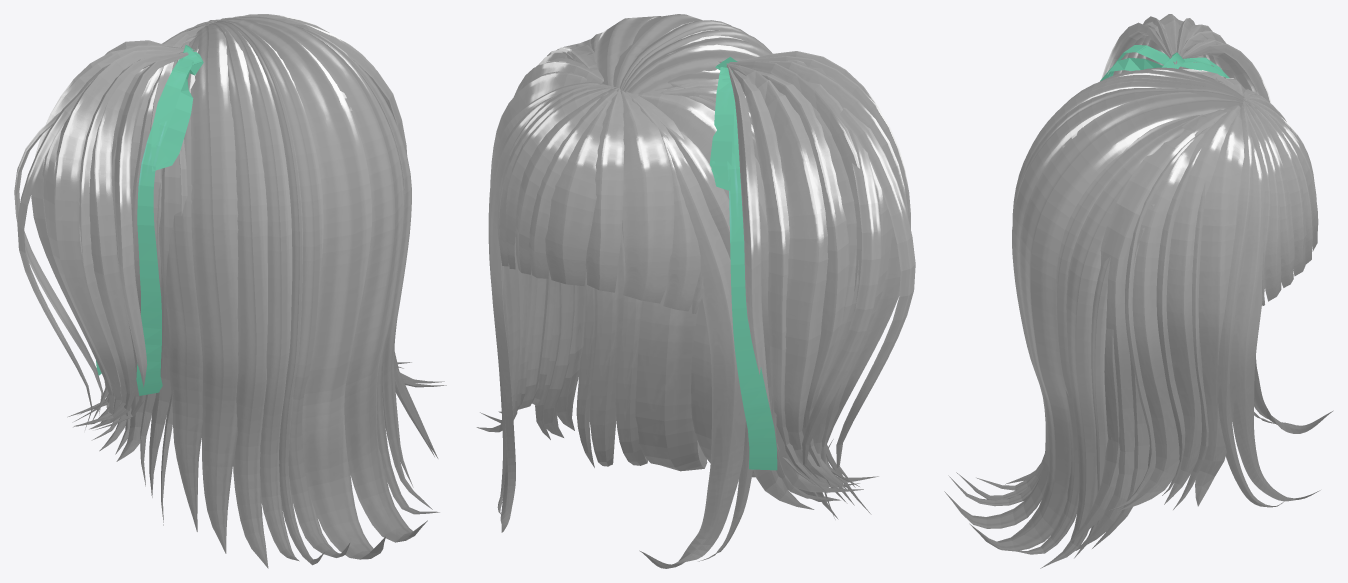
File: hair-feminine-sidePony.glb
The picture shows the model from 3 angles, left to right: view 1: azimuth 30°, elevation 25°; view 2: azimuth 150°, elevation 25°; view 3: azimuth 270°, elevation 25°; orthographic projection. The views are drawn at different scales.
Visible parts, largest first — view 1: hair-sidePony; view 2: hair-sidePony; view 3: hair-sidePony.
Part boxes in pixels (x1=…): hair-sidePony: x1=14, y1=14, x2=446, y2=568; hair-sidePony: x1=476, y1=14, x2=915, y2=568; hair-sidePony: x1=944, y1=14, x2=1333, y2=568.
Bounding box in the file's own units: 0.3488 × 0.3966 × 0.3146.
Materials: 4 (4 with a texture image).
